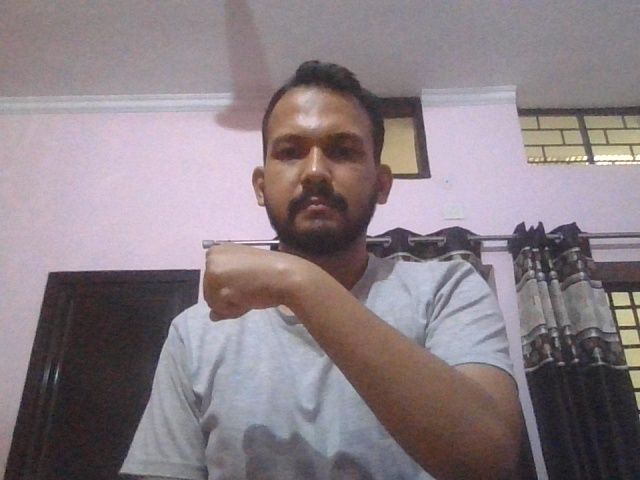yes: (201, 243, 326, 322)
